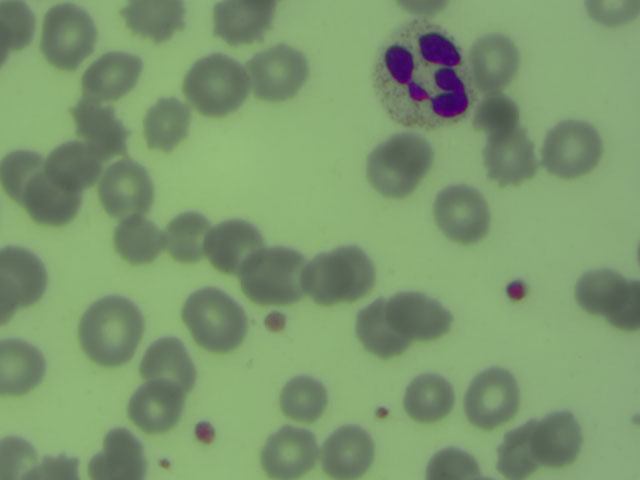Platelets: (262, 307, 293, 337), (503, 275, 531, 307), (192, 416, 218, 445), (374, 401, 396, 423), (155, 453, 176, 472)
RBC: (80, 297, 140, 364), (209, 1, 281, 51), (1, 241, 52, 311), (388, 288, 457, 338), (119, 1, 192, 46), (434, 185, 491, 242), (483, 129, 540, 186), (370, 135, 427, 192), (567, 262, 624, 319), (545, 120, 602, 177), (471, 85, 528, 142), (467, 33, 524, 90), (528, 406, 585, 463), (491, 423, 548, 480), (463, 369, 520, 426), (400, 367, 457, 424), (354, 300, 411, 357), (259, 423, 316, 480), (274, 365, 331, 422), (126, 375, 183, 432), (140, 332, 197, 389), (187, 289, 244, 346), (248, 242, 305, 299), (205, 216, 262, 273), (160, 207, 217, 264), (112, 211, 169, 268), (99, 160, 156, 217), (24, 170, 81, 227), (43, 137, 100, 194), (75, 97, 132, 154), (140, 94, 197, 151), (186, 54, 243, 111), (247, 42, 304, 99), (84, 48, 141, 105), (40, 8, 97, 65), (317, 423, 374, 479), (88, 423, 145, 479), (327, 240, 378, 298), (1, 334, 46, 397), (296, 252, 347, 306), (1, 147, 43, 204), (423, 442, 482, 479), (605, 277, 640, 338), (1, 430, 43, 479), (1, 1, 33, 62), (583, 1, 639, 32)
WBC: (373, 20, 474, 126)
